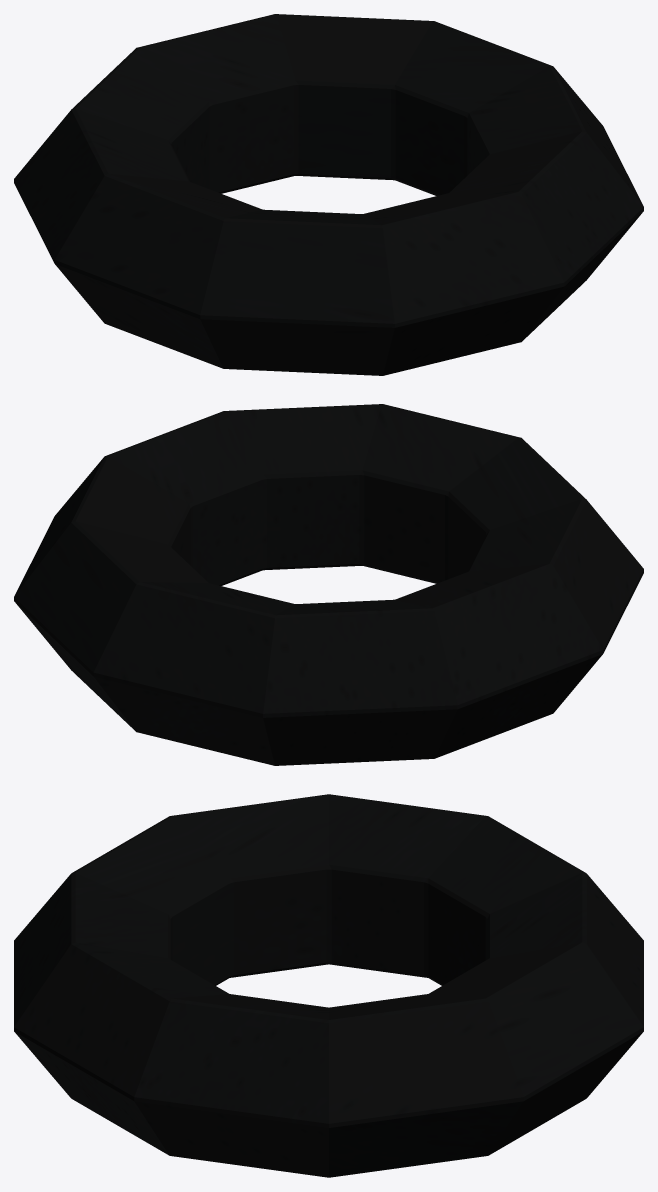
The model's file is PROP-46E9AFECE787_lod1.glb.
3 views of the same model, one above another, from view 1: azimuth 30°, elevation 25°; view 2: azimuth 150°, elevation 25°; view 3: azimuth 270°, elevation 25° (orthographic). The views are drawn at different scales.
Visible parts, largest first — view 1: discarded_tire.001; view 2: discarded_tire.001; view 3: discarded_tire.001.
Part boxes in pixels (left/top/right/bottom): discarded_tire.001: left=14, top=14, right=643, bottom=375; discarded_tire.001: left=14, top=404, right=643, bottom=765; discarded_tire.001: left=14, top=794, right=643, bottom=1177.
Bounding box in the file's own units: 0.9352 × 0.2447 × 0.8894.
1 material, 1 textured.
